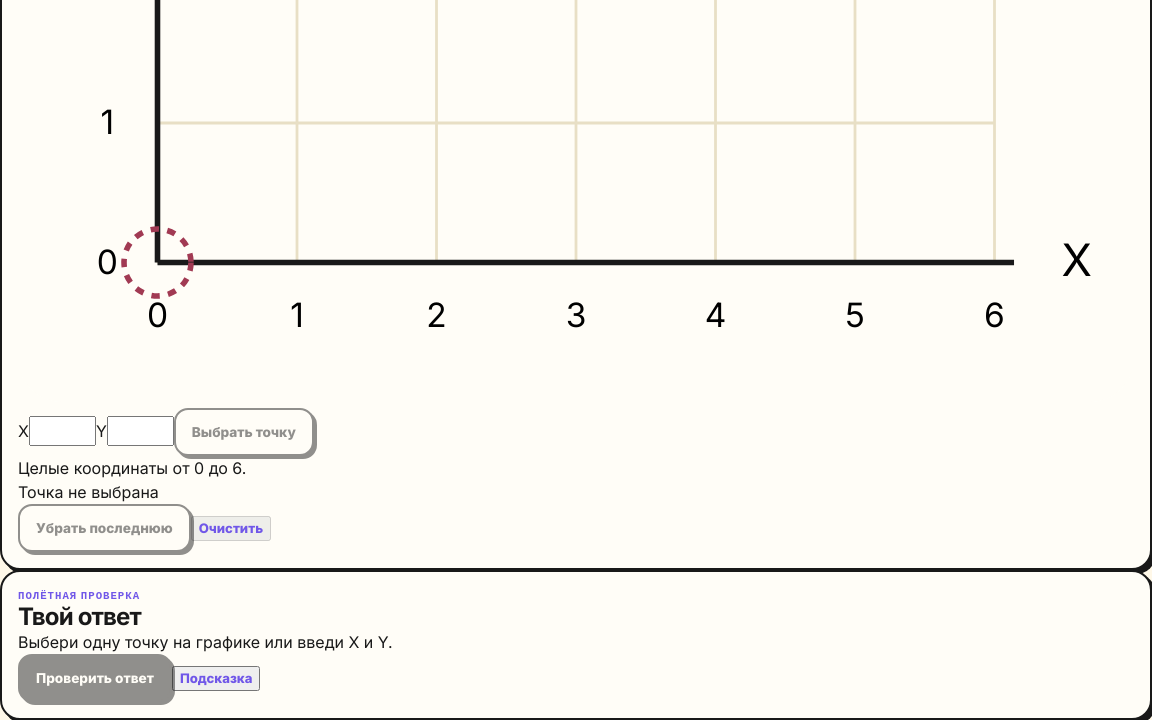
Test: completes mission-1 only after a complete correct answer
(page scrolled)
Expected: the button "Проверить ответ" is disabled, left=18, top=654, right=172, bottom=702
In the number field labelled "X": (62, 431) left=29, top=416, right=96, bottom=446, type "3"
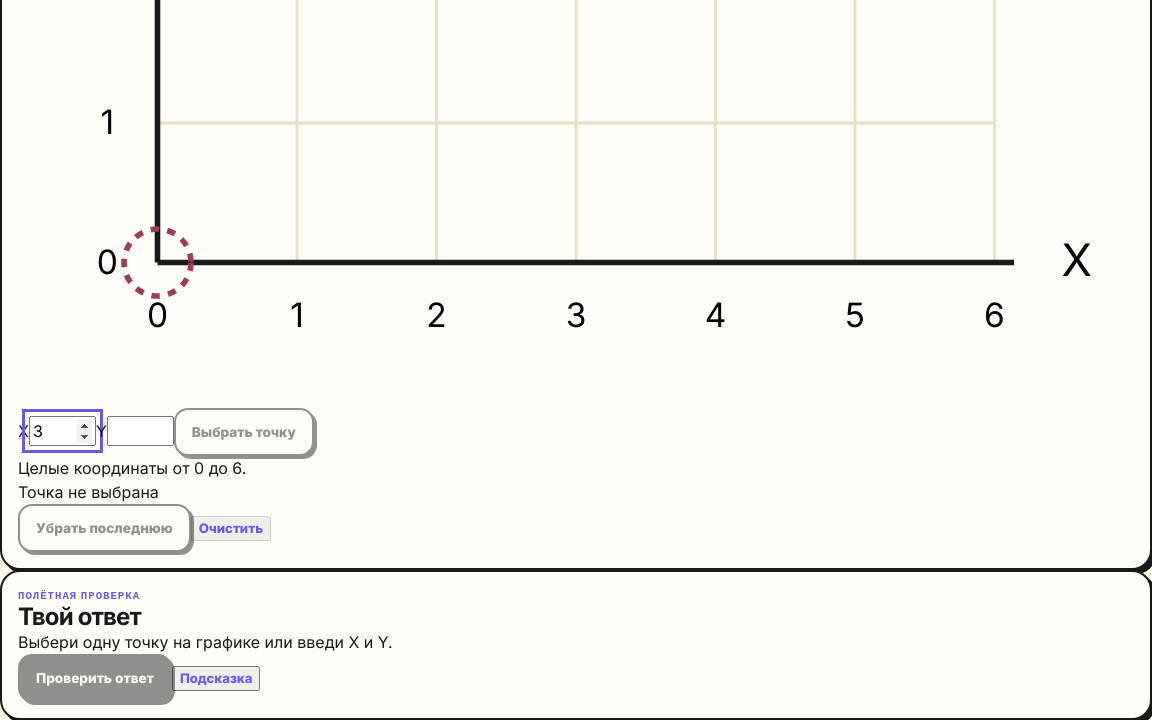
In the number field labelled "Y": (140, 431) left=107, top=416, right=174, bottom=446, type "4"
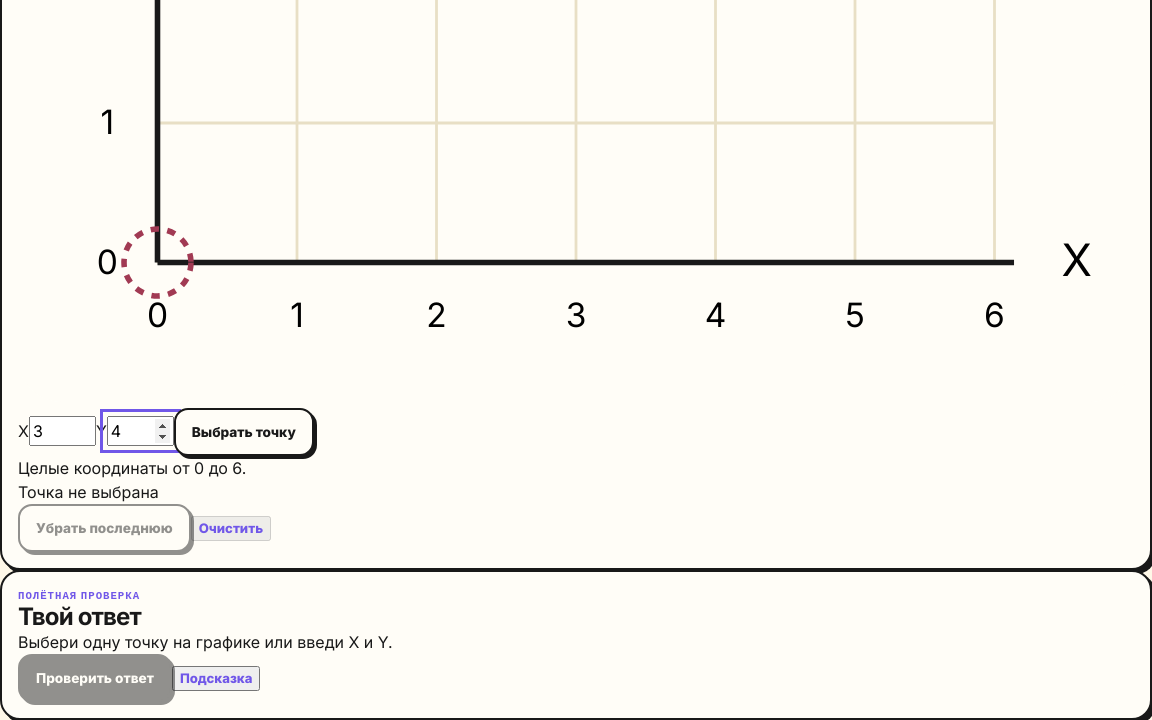
Click the button "Выбрать точку": (244, 432) left=174, top=408, right=314, bottom=456
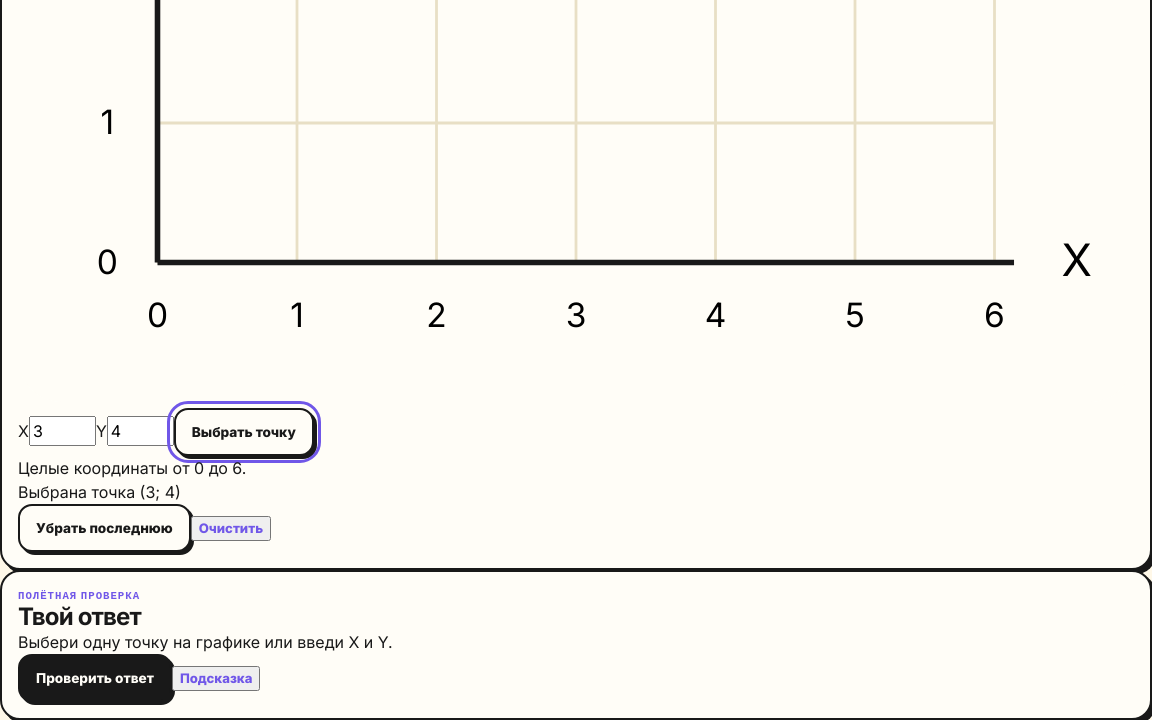
Click the button "Проверить ответ": (95, 678) left=18, top=654, right=172, bottom=702
(page scrolled)
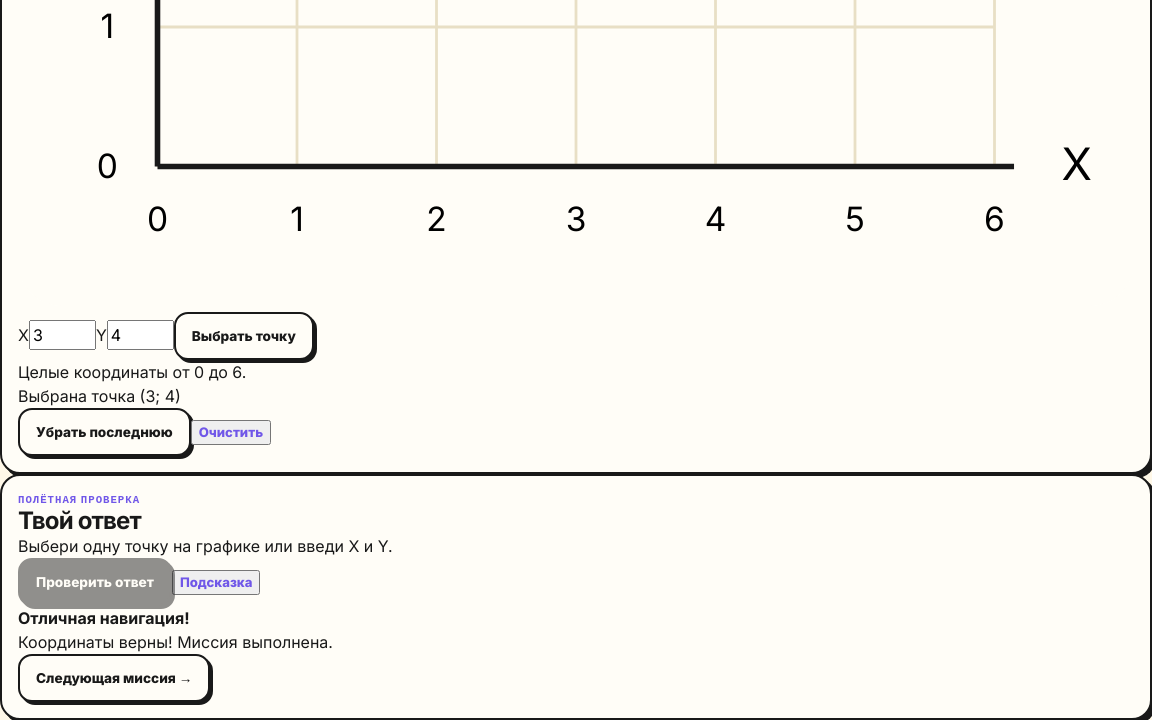
Result: the text "Координаты верны! Миссия выполнена." is shown at left=18, top=632, right=333, bottom=652
